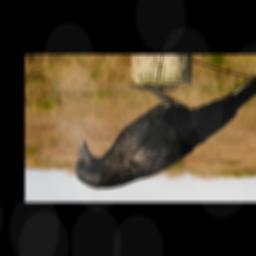Crow: (75, 69, 256, 189)
